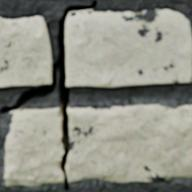brick: (65, 9, 191, 86), (0, 16, 51, 86)
broken_brick: (66, 104, 191, 181), (4, 107, 63, 185)
crack: (0, 1, 97, 190)
